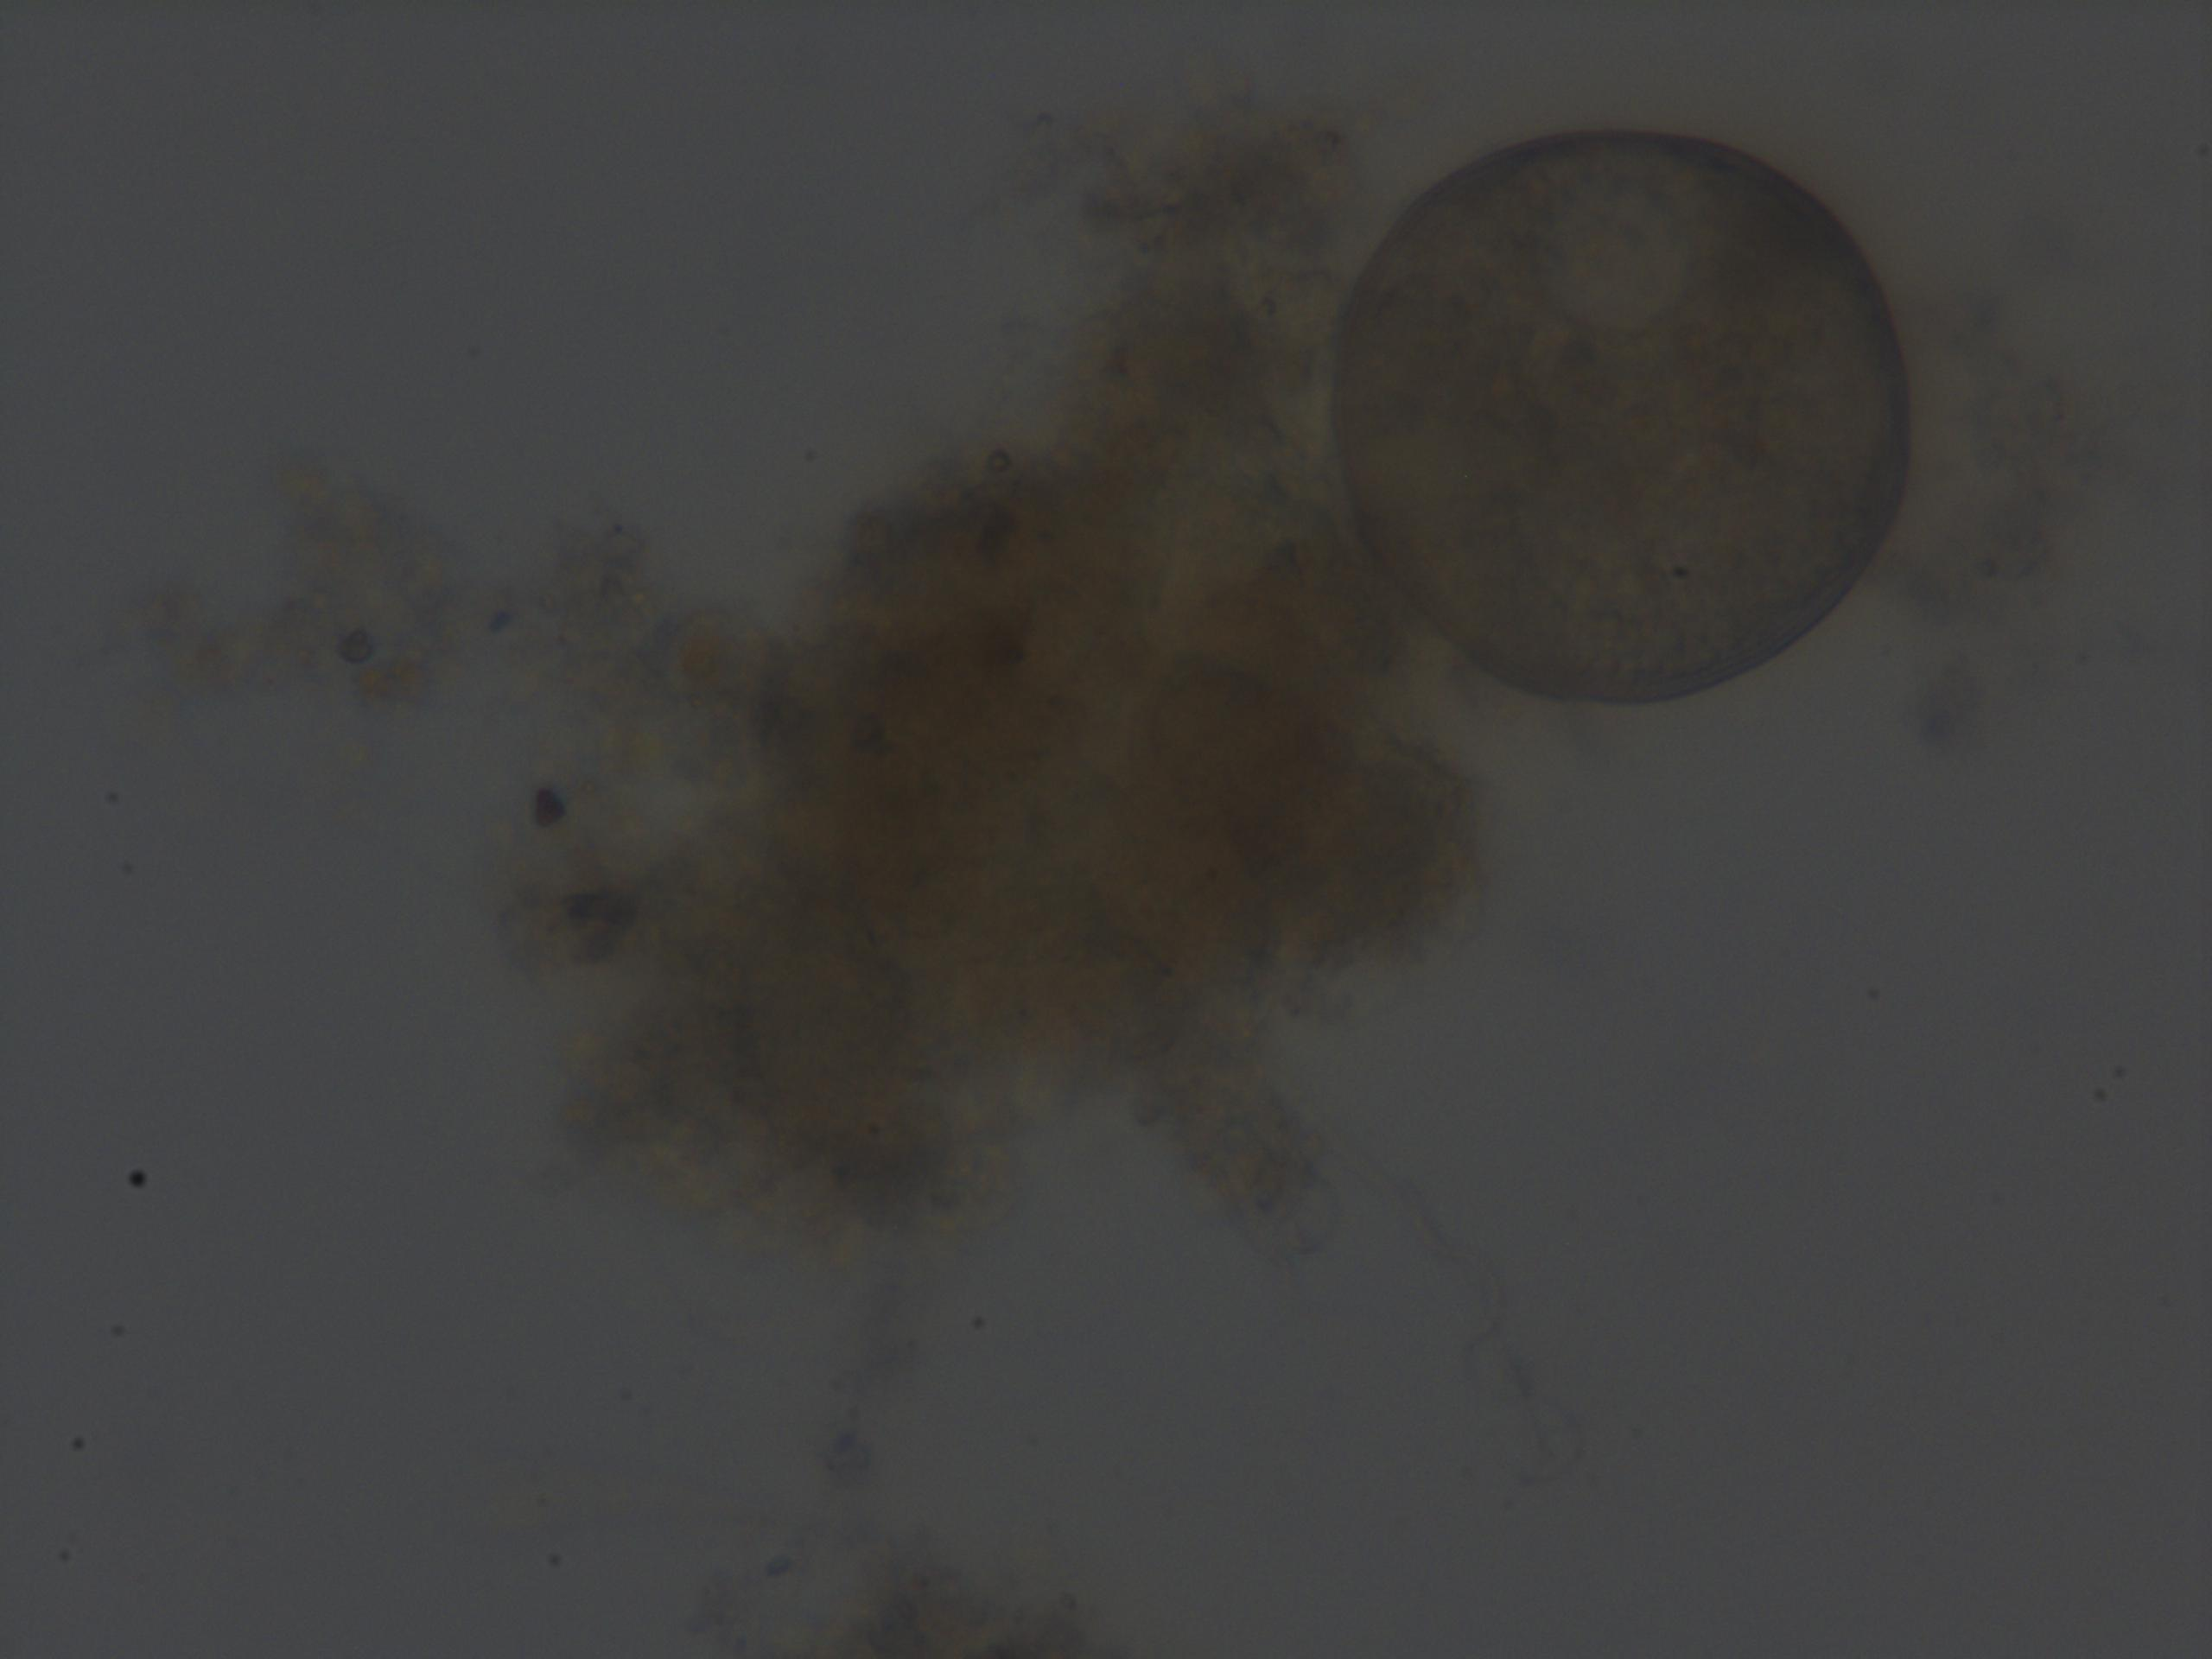protozoa: (1317, 117, 1921, 720)
